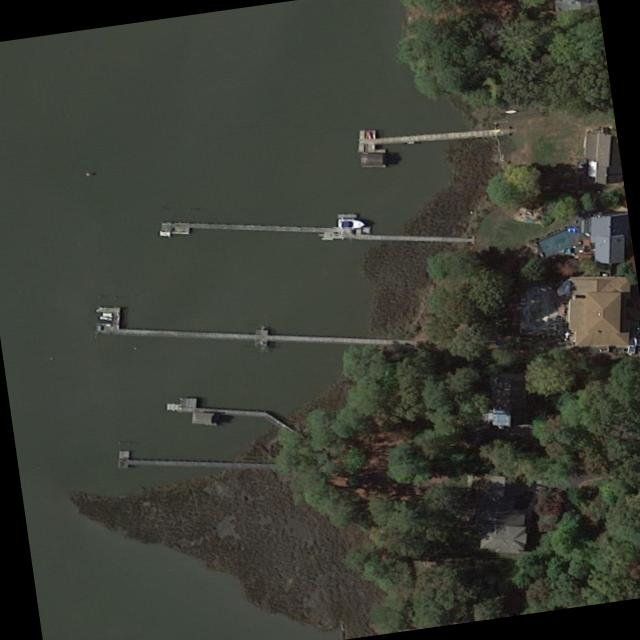ship: (335, 217, 365, 231)
